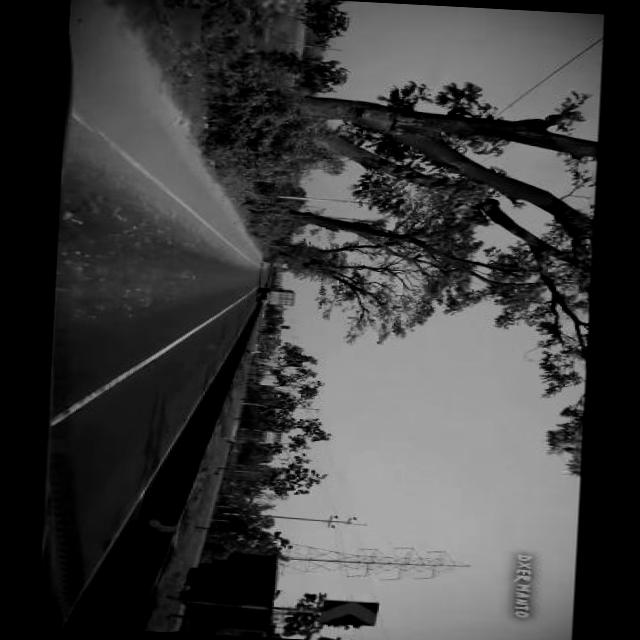truck: (179, 546, 288, 638), (253, 284, 298, 308)
